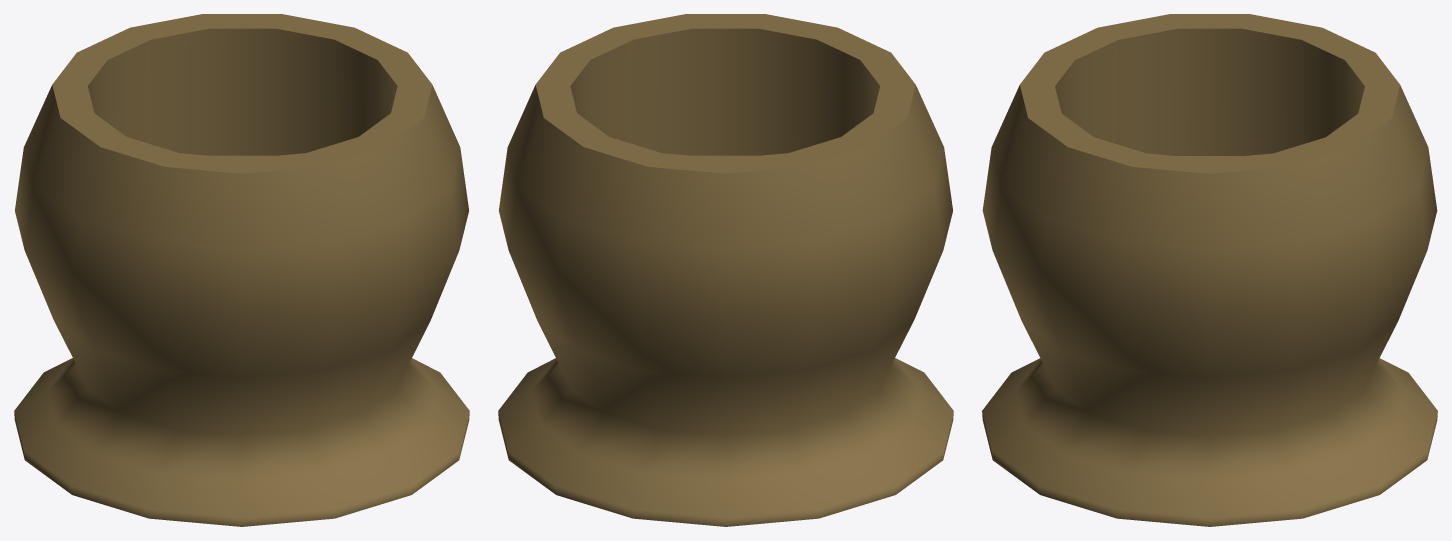
File: plantPot_lp.fbx
3 views of the same model, side by side, from view 1: azimuth 30°, elevation 25°; view 2: azimuth 150°, elevation 25°; view 3: azimuth 270°, elevation 25° (orthographic).
Visible parts, largest first — view 1: plantPot_lp; view 2: plantPot_lp; view 3: plantPot_lp.
Boxes of the visible parts, bbox=[...] form: plantPot_lp: bbox=[14, 14, 469, 526]; plantPot_lp: bbox=[498, 14, 953, 526]; plantPot_lp: bbox=[982, 14, 1437, 526].
Bounding box in the file's own units: 0.2472 × 0.2031 × 0.2486.
